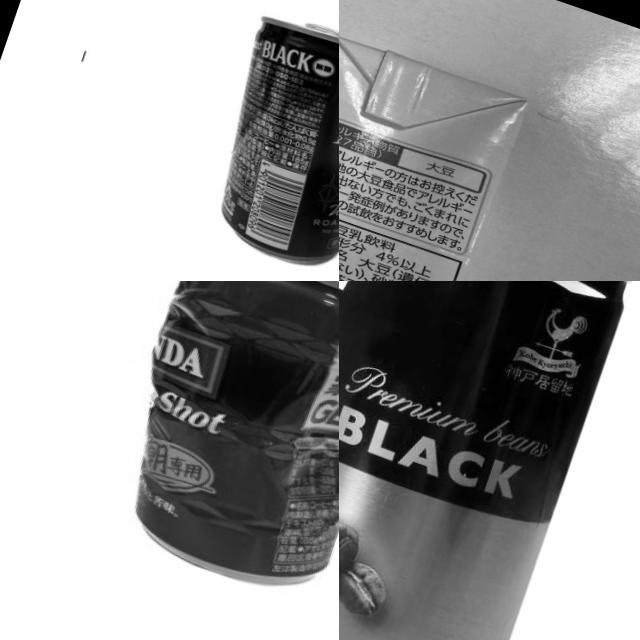Aluminium Foil: (82, 281, 339, 605), (339, 18, 539, 281)
Can: (339, 281, 640, 640), (183, 3, 339, 281)
